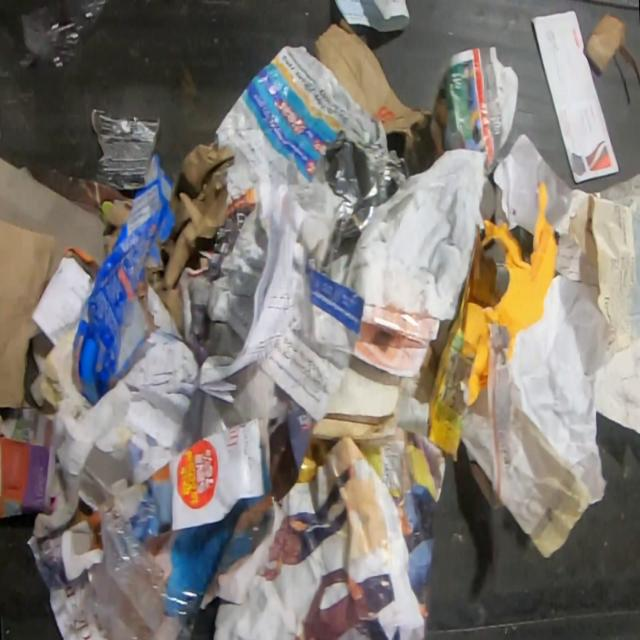cardboard: (394, 183, 559, 457), (71, 152, 174, 406), (146, 139, 235, 333), (312, 122, 408, 265), (90, 108, 162, 189)
soft_plastic: (83, 502, 205, 640), (20, 0, 107, 65)
